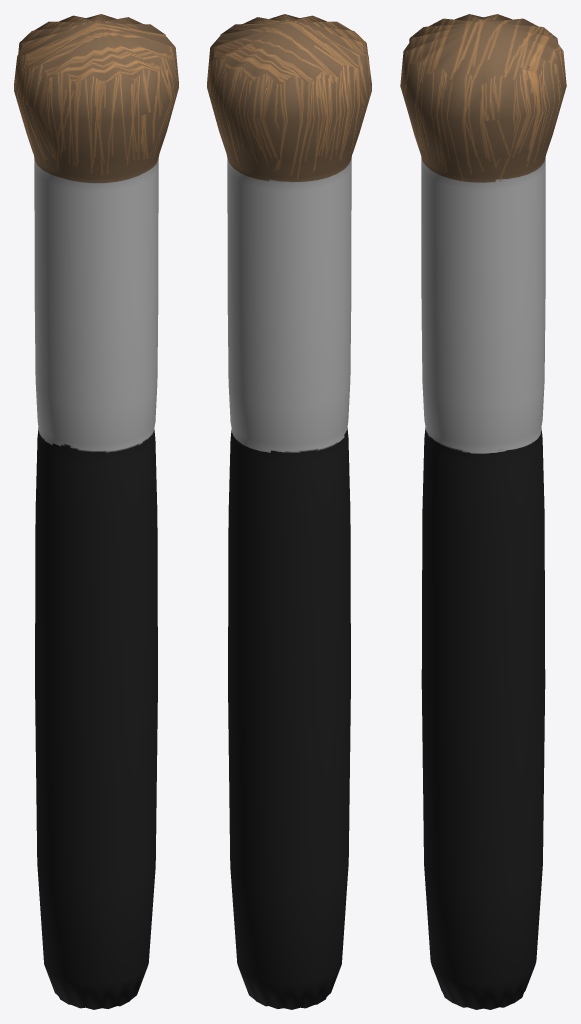
The model's file is smallbrush.fbx.
The picture shows the model from 3 angles, left to right: view 1: azimuth 30°, elevation 25°; view 2: azimuth 150°, elevation 25°; view 3: azimuth 270°, elevation 25°; orthographic projection.
Parts seen in each view (by area): view 1: Cylinder.006; view 2: Cylinder.006; view 3: Cylinder.006.
Part boxes in pixels (bbox=[...]): Cylinder.006: bbox=[14, 14, 178, 1009]; Cylinder.006: bbox=[207, 14, 371, 1009]; Cylinder.006: bbox=[400, 14, 566, 1009].
Bounding box in the file's own units: 32.03 × 209 × 32.03.
